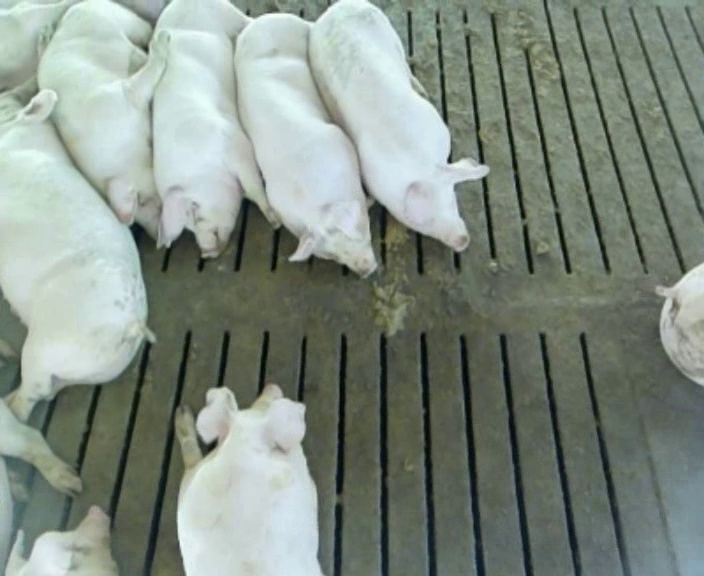pig: (0, 90, 153, 420), (310, 2, 488, 250), (235, 14, 376, 276), (151, 2, 278, 258), (38, 3, 167, 237), (175, 384, 321, 574), (0, 398, 81, 574), (5, 505, 117, 575), (0, 2, 71, 100), (656, 263, 703, 385)
